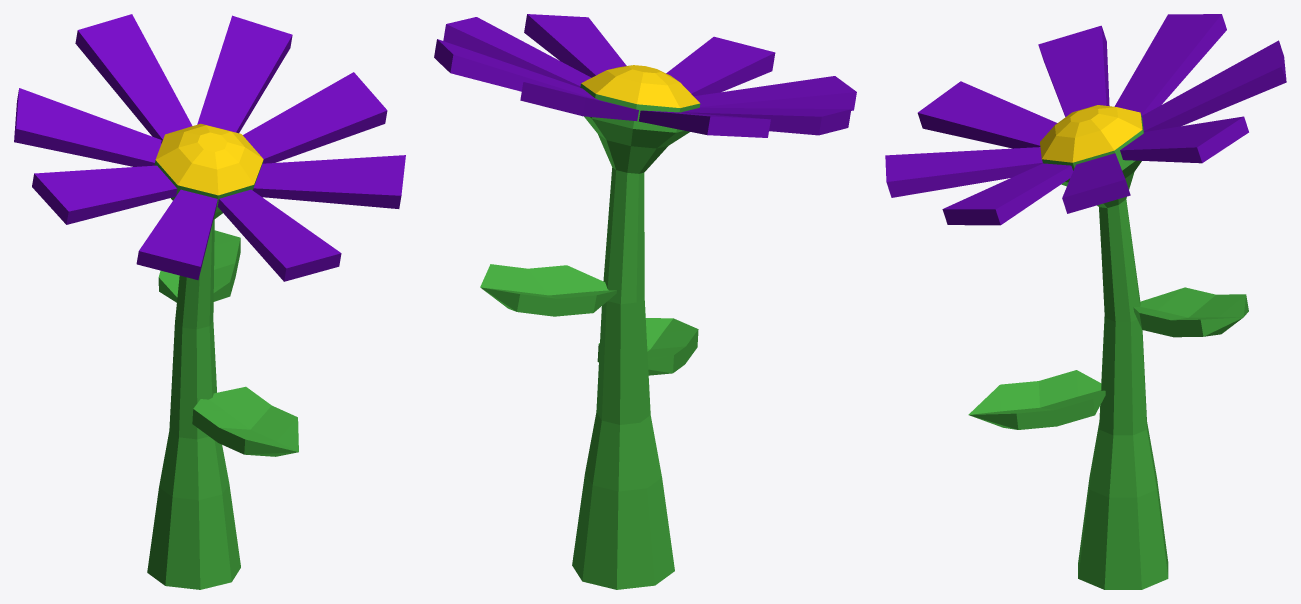
Rendered from flowerPurple.glb.
The picture shows the model from 3 angles, left to right: view 1: azimuth 30°, elevation 25°; view 2: azimuth 150°, elevation 25°; view 3: azimuth 270°, elevation 25°; orthographic projection. The views are drawn at different scales.
Visible parts, largest first — view 1: Flower.002; view 2: Flower.002; view 3: Flower.002.
Boxes of the visible parts, left/top/right/bottom form: Flower.002: left=14, top=14, right=405, bottom=589; Flower.002: left=434, top=14, right=856, bottom=589; Flower.002: left=885, top=14, right=1286, bottom=589.
Size of the model in its own units: 18.92 by 26.84 by 19.08.
